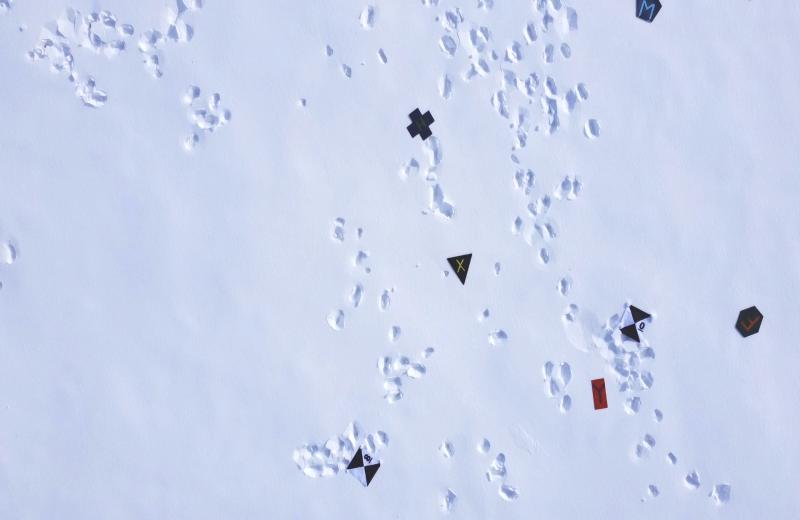Cross: (402, 106, 442, 143)
Hexagon: (730, 304, 762, 342)
Pentagon: (634, 0, 664, 26)
Rectangle: (585, 376, 611, 413)
Triangle: (447, 253, 478, 290)
